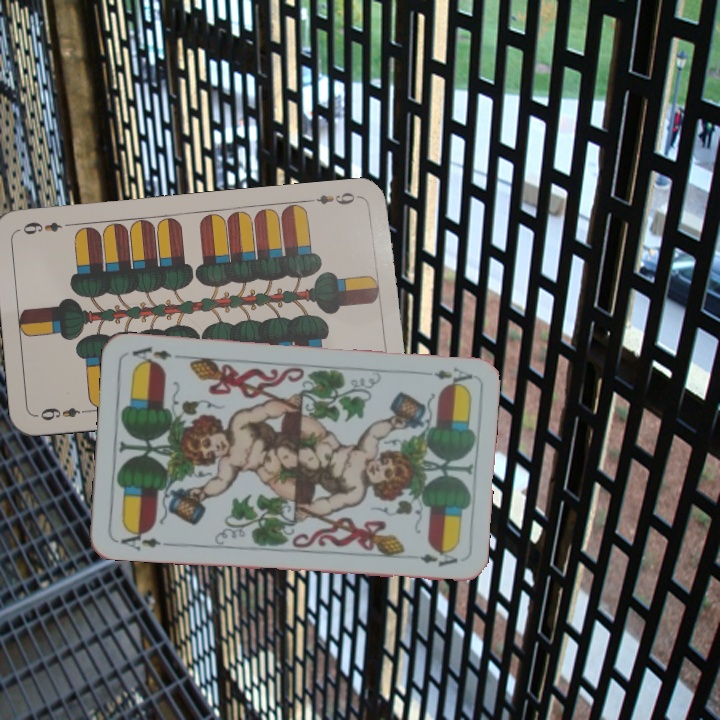E9: (36, 403, 93, 423), (305, 188, 364, 207)
EA: (117, 525, 164, 553), (430, 363, 475, 389)
